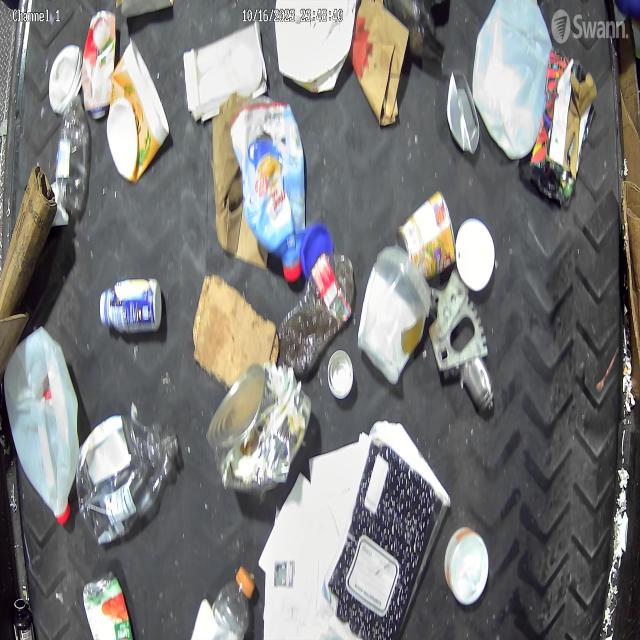can: (210, 362, 309, 496), (396, 190, 457, 280), (83, 571, 134, 638), (447, 70, 480, 154), (326, 348, 354, 400)
milk_jug: (5, 328, 80, 523), (474, 0, 551, 156)
non_white_jug: (231, 103, 307, 277), (75, 417, 183, 539)
plastic_bottle: (278, 252, 355, 374), (190, 565, 255, 640), (56, 94, 88, 212)
